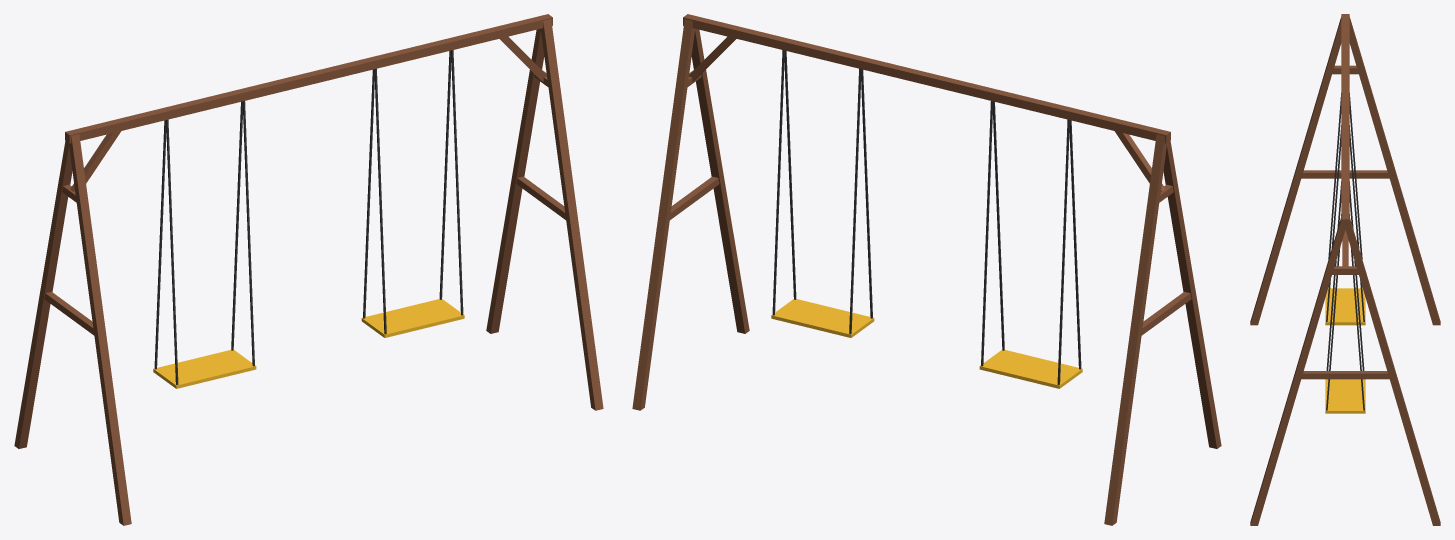
Rendered from Playground_01.fbx.
3 renders of one model, left to right at view 1: azimuth 30°, elevation 25°; view 2: azimuth 150°, elevation 25°; view 3: azimuth 270°, elevation 25°, orthographic. The views are drawn at different scales.
Parts seen in each view (by area): view 1: Playground_01; view 2: Playground_01; view 3: Playground_01.
Part boxes in pixels (x1,y1,x2,y2): Playground_01: (14, 14, 603, 525); Playground_01: (632, 14, 1221, 525); Playground_01: (1250, 14, 1440, 525).
Size of the model in its own units: 302 by 211 by 118.
